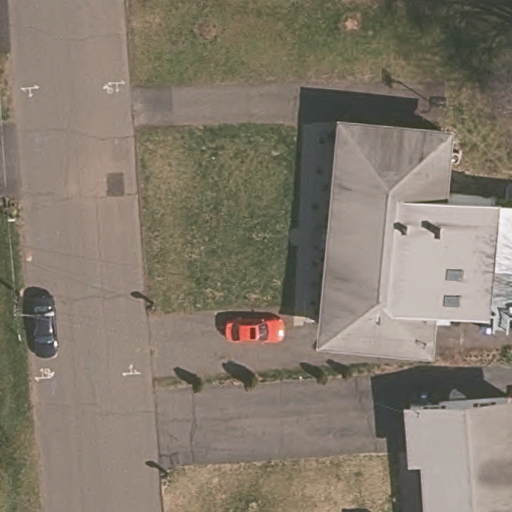DT: (4, 289, 35, 339)
